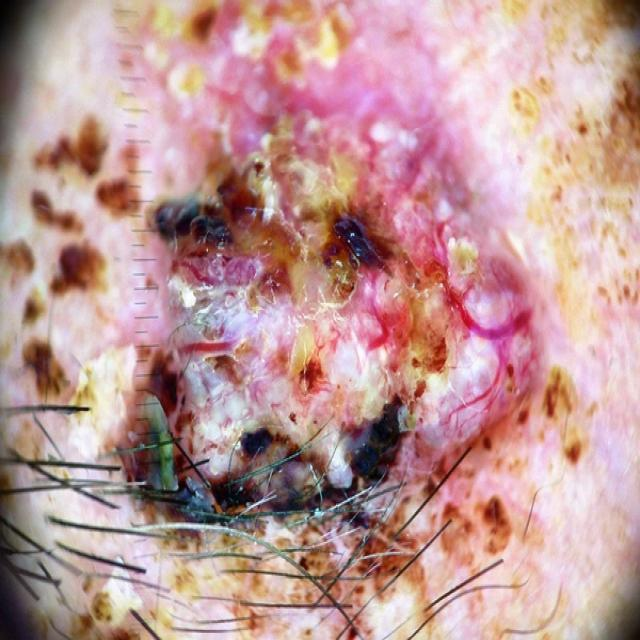Basal-Cell-Carcinoma-BCC-: (25, 39, 569, 580)
